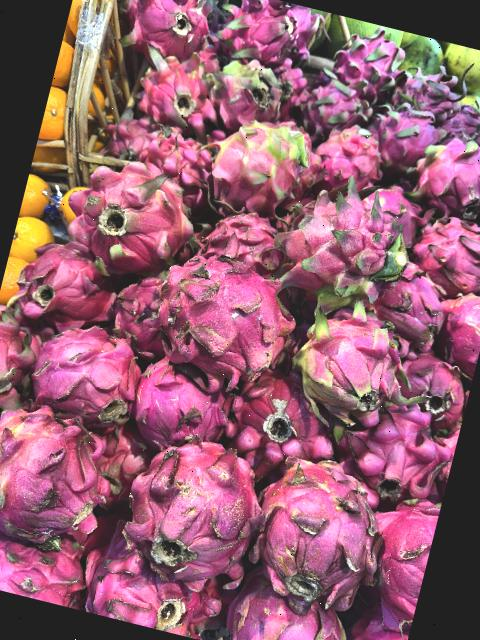buah-naga-belum-matang: (276, 297, 450, 450), (263, 174, 425, 328), (54, 147, 211, 286), (0, 396, 132, 558), (198, 106, 325, 229)
buah-naga-matang: (100, 424, 284, 604), (130, 232, 312, 409), (233, 446, 404, 624), (10, 306, 156, 443), (72, 534, 238, 640), (119, 342, 244, 453), (9, 230, 132, 342), (345, 484, 442, 626), (221, 562, 365, 640), (0, 512, 99, 611), (357, 252, 454, 350), (393, 119, 480, 228), (398, 195, 480, 307), (302, 110, 396, 207), (423, 275, 480, 388)
